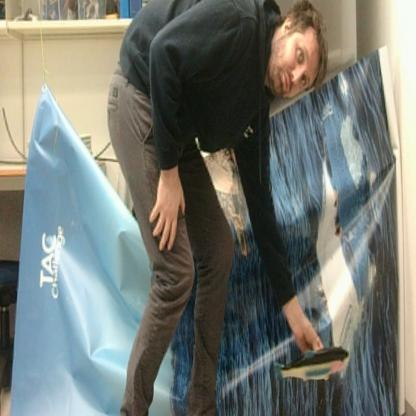rubberfish: (273, 345, 351, 389)
